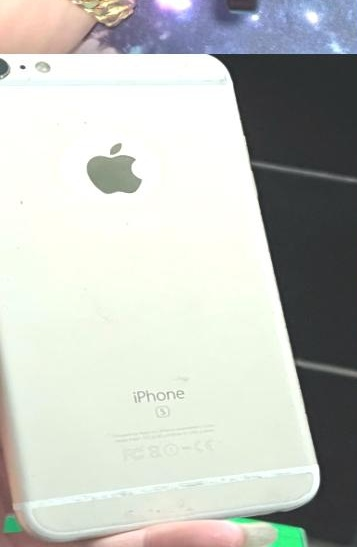scratch: (107, 497, 221, 524), (42, 111, 102, 152), (158, 54, 230, 81), (3, 185, 74, 209), (0, 54, 34, 90)
